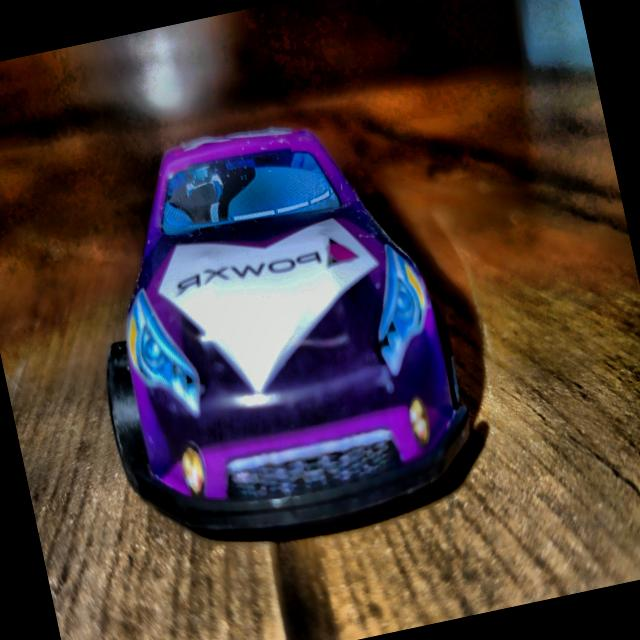Car: (59, 97, 484, 562)
